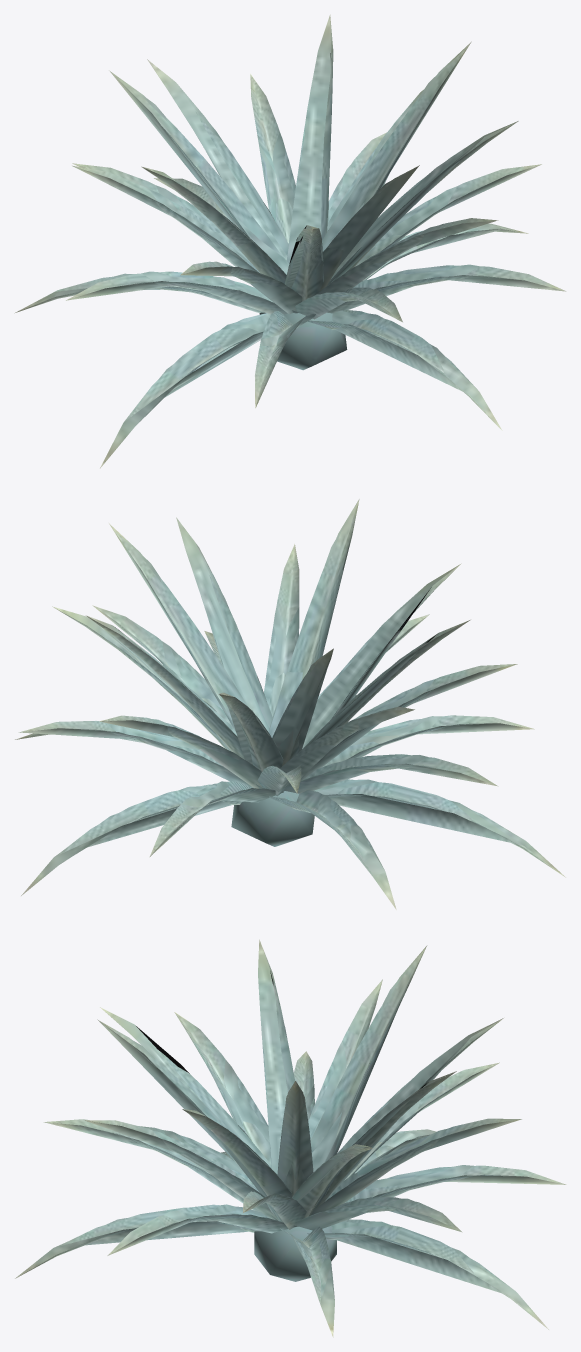
File: agave.glb
3 views of the same model, one above another, from view 1: azimuth 30°, elevation 25°; view 2: azimuth 150°, elevation 25°; view 3: azimuth 270°, elevation 25° (orthographic). The views are drawn at different scales.
Visible parts, largest first — view 1: agave, agave_lp; view 2: agave, agave_lp; view 3: agave_lp, agave.
Part boxes in pixels (x1,y1,x2,y2): agave: (14, 17, 563, 451); agave_lp: (15, 15, 566, 468); agave: (15, 500, 565, 893); agave_lp: (16, 499, 564, 909); agave_lp: (15, 940, 566, 1337); agave: (17, 942, 565, 1329).
Bounding box in the file's own units: 1.85 × 1.04 × 1.82.
Materials: 2 (2 with a texture image).
